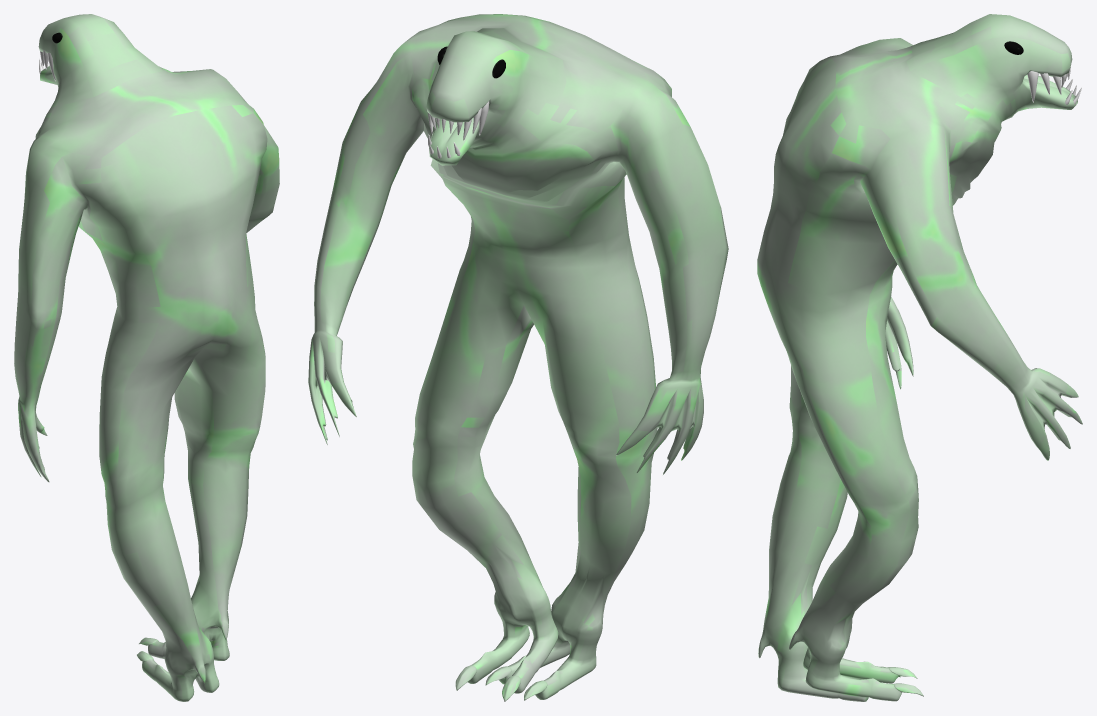
File: Berserkerandar.0021.obj
The picture shows the model from 3 angles, left to right: view 1: azimuth 30°, elevation 25°; view 2: azimuth 150°, elevation 25°; view 3: azimuth 270°, elevation 25°; orthographic projection. The views are drawn at different scales.
Visible parts, largest first — view 1: polySurface27; view 2: polySurface27; view 3: polySurface27.
Part boxes in pixels (x1,y1,x2,y2): polySurface27: [14, 14, 279, 701]; polySurface27: [308, 14, 728, 701]; polySurface27: [757, 14, 1082, 701].
Bounding box in the file's own units: 11.45 × 23.24 × 10.3.
Materials: 1 (1 with a texture image).
